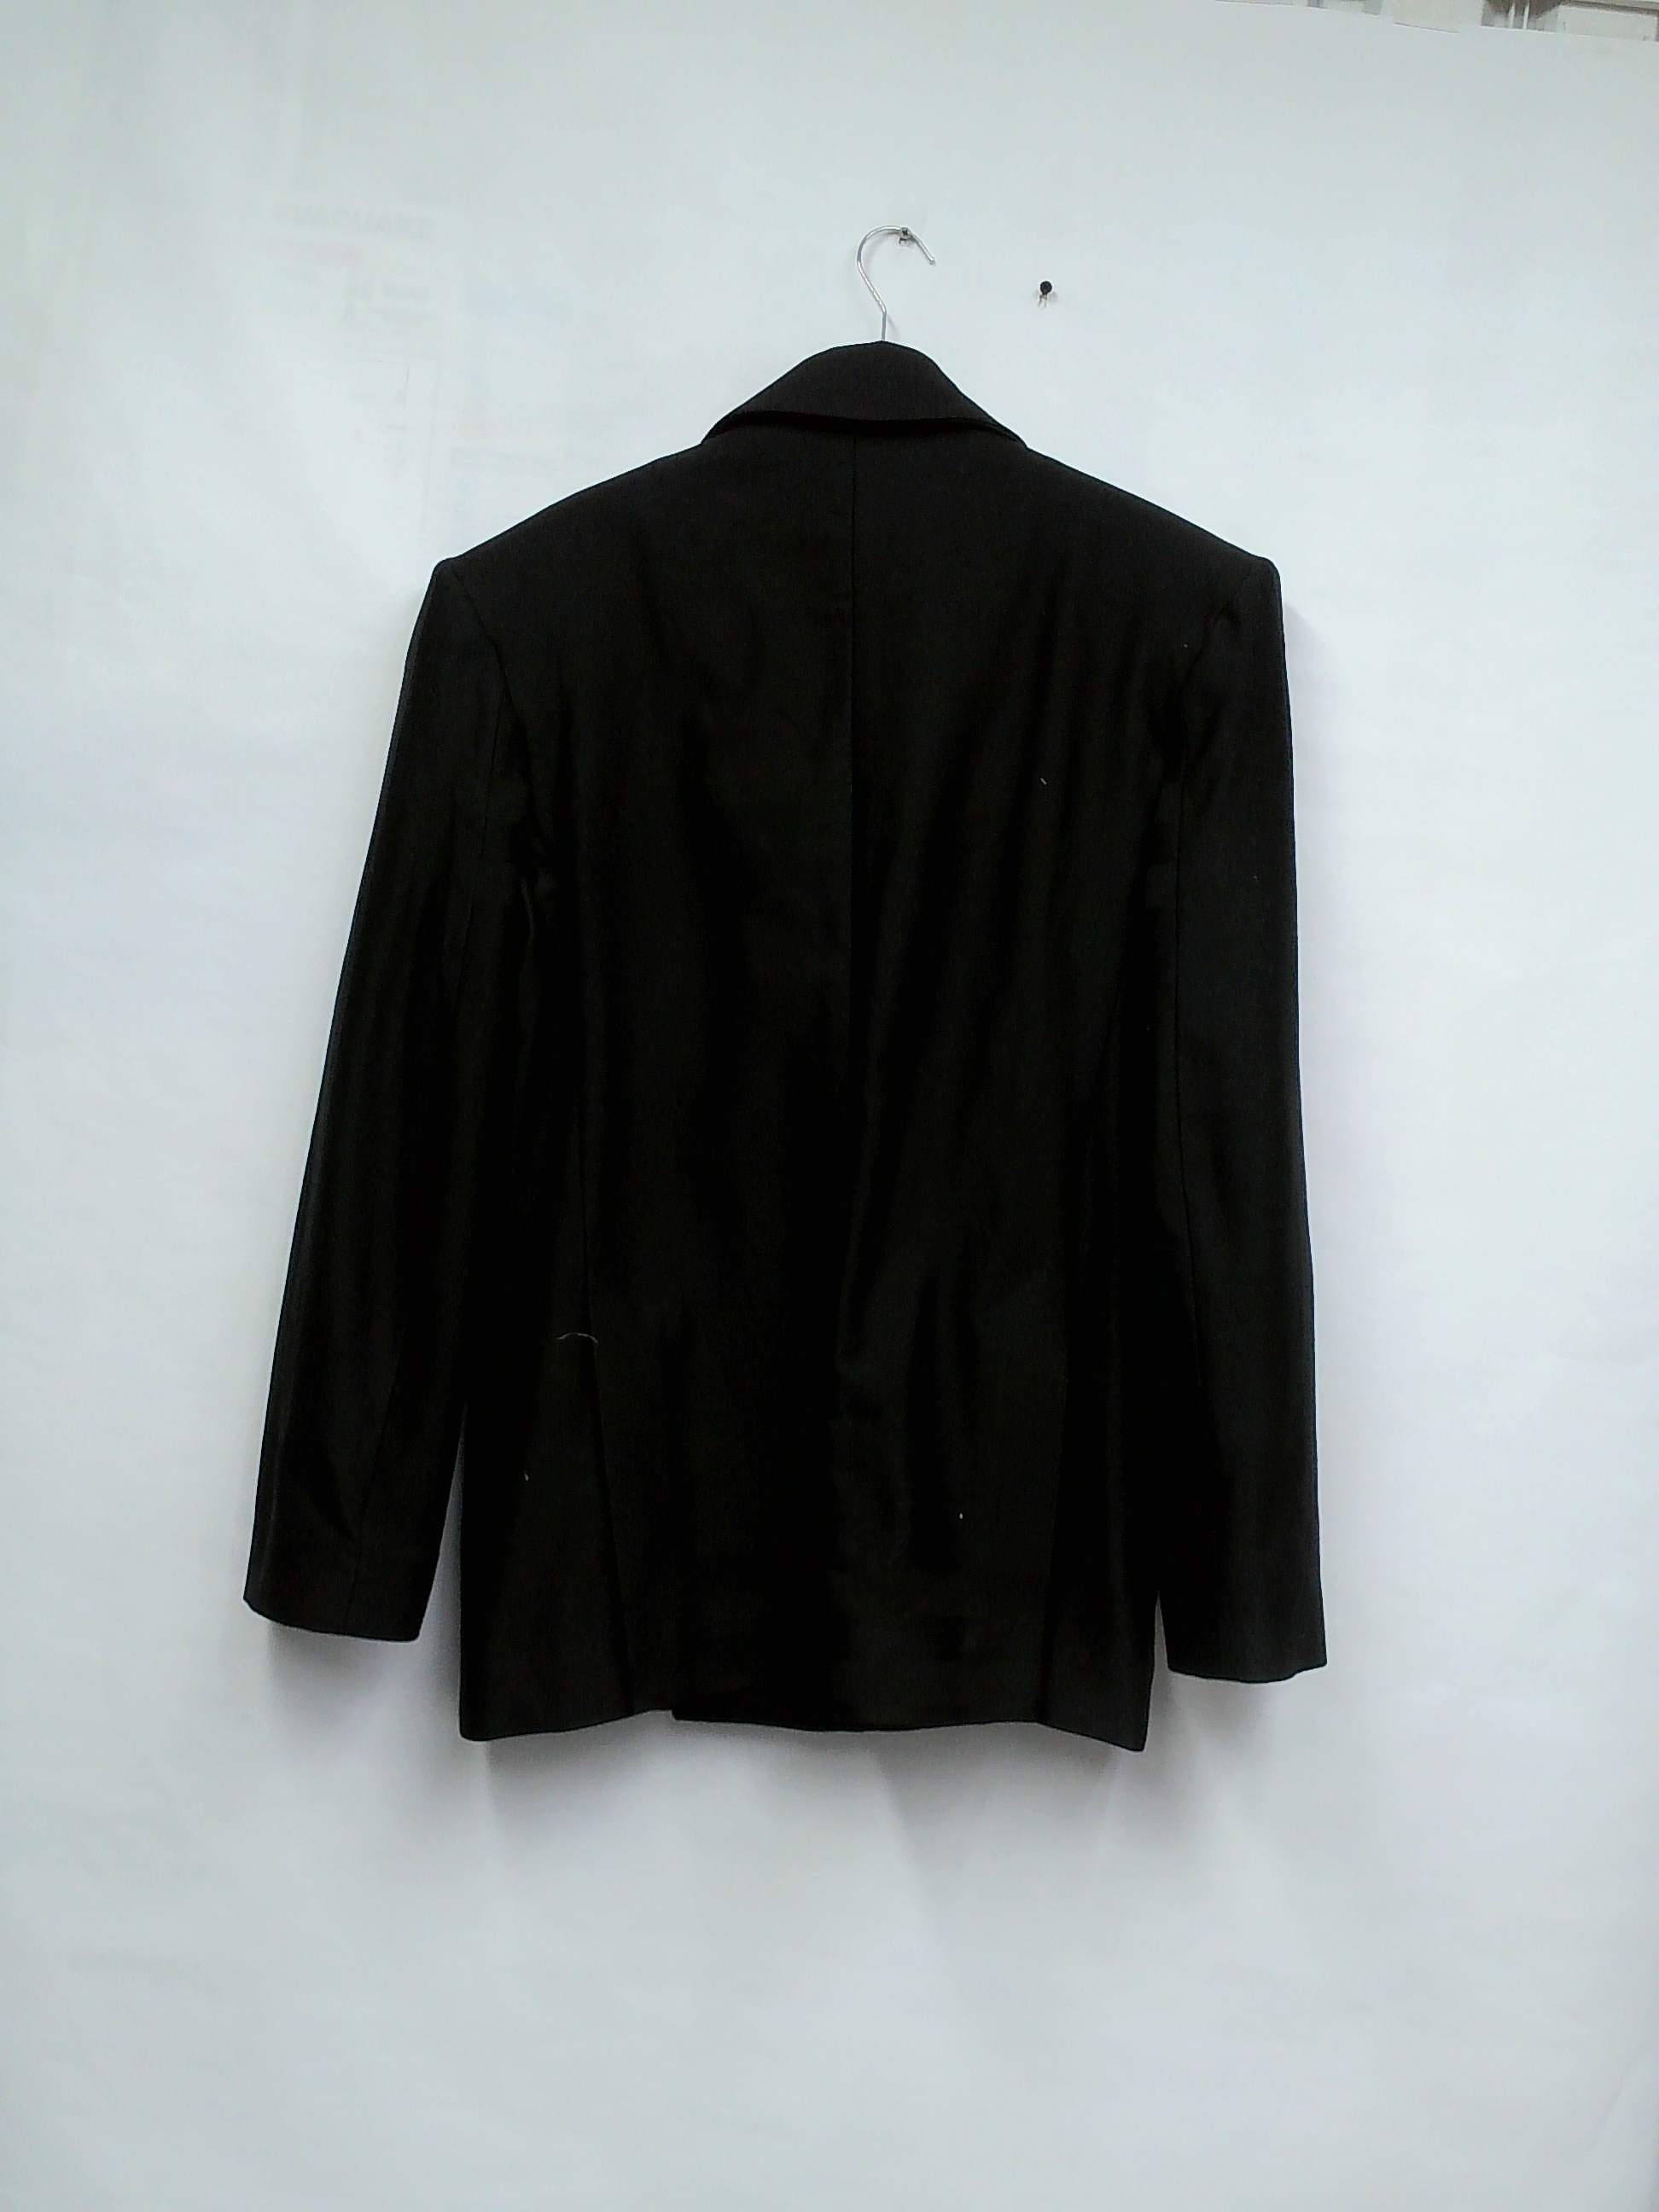loose_thread: (1136, 624, 1222, 730)
